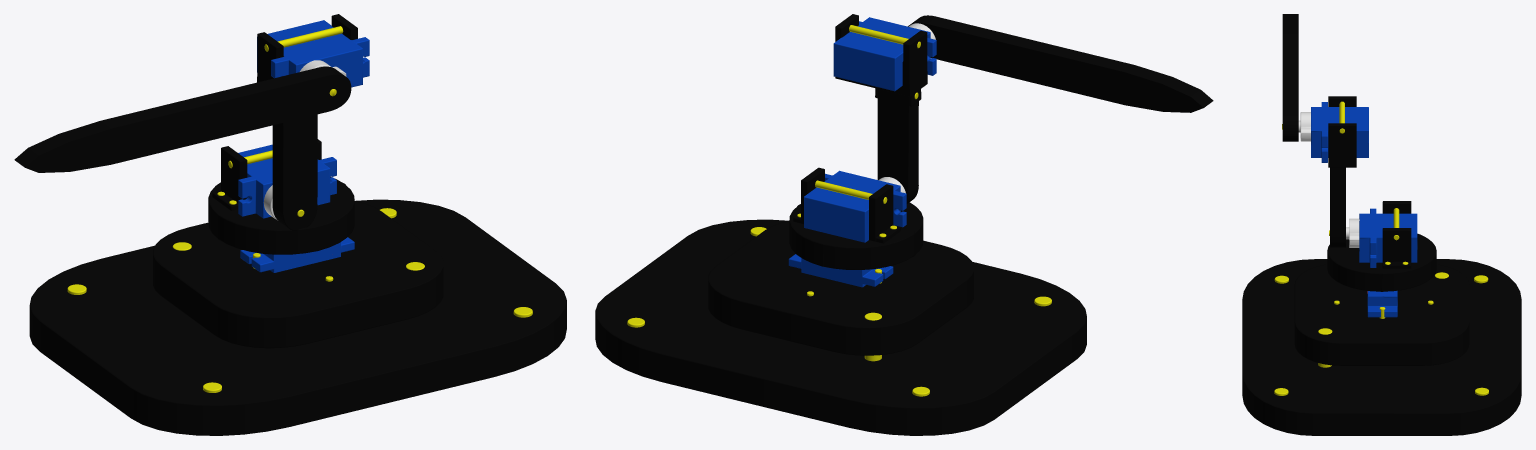
The picture shows the model from 3 angles, left to right: view 1: azimuth 30°, elevation 25°; view 2: azimuth 150°, elevation 25°; view 3: azimuth 270°, elevation 25°; orthographic projection. The views are drawn at different scales.
Parts seen in each view (by area): view 1: Cylinder, Cube.001, Cylinder.006, Cylinder.005; view 2: Cylinder, Cube.001, Cylinder.005, Cylinder.006; view 3: Cylinder, Cylinder.005, Cylinder.006, Cube.001.
Boxes of the visible parts, x1=… form: Cylinder: x1=29, y1=199, x2=566, y2=435; Cube.001: x1=14, y1=66, x2=351, y2=172; Cylinder.006: x1=257, y1=14, x2=369, y2=230; Cylinder.005: x1=208, y1=139, x2=354, y2=254; Cylinder: x1=595, y1=219, x2=1086, y2=435; Cube.001: x1=908, y1=15, x2=1213, y2=112; Cylinder.005: x1=789, y1=167, x2=923, y2=269; Cylinder.006: x1=833, y1=14, x2=936, y2=203; Cylinder: x1=1242, y1=259, x2=1521, y2=435; Cylinder.005: x1=1327, y1=201, x2=1436, y2=291; Cylinder.006: x1=1298, y1=96, x2=1368, y2=247; Cube.001: x1=1282, y1=14, x2=1298, y2=141.
Bounding box in the file's own units: 13.02 × 7.34 × 7.68.
